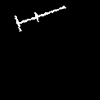double_crochet: (15, 6, 65, 30)
